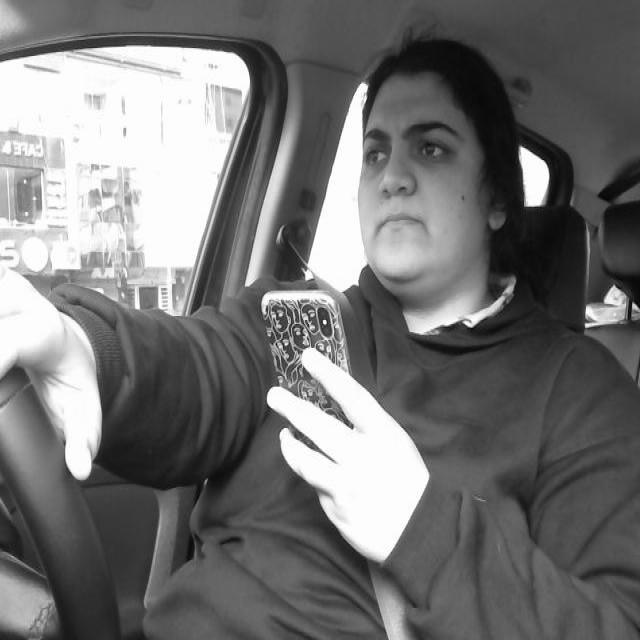mobile use: (260, 280, 358, 432)
